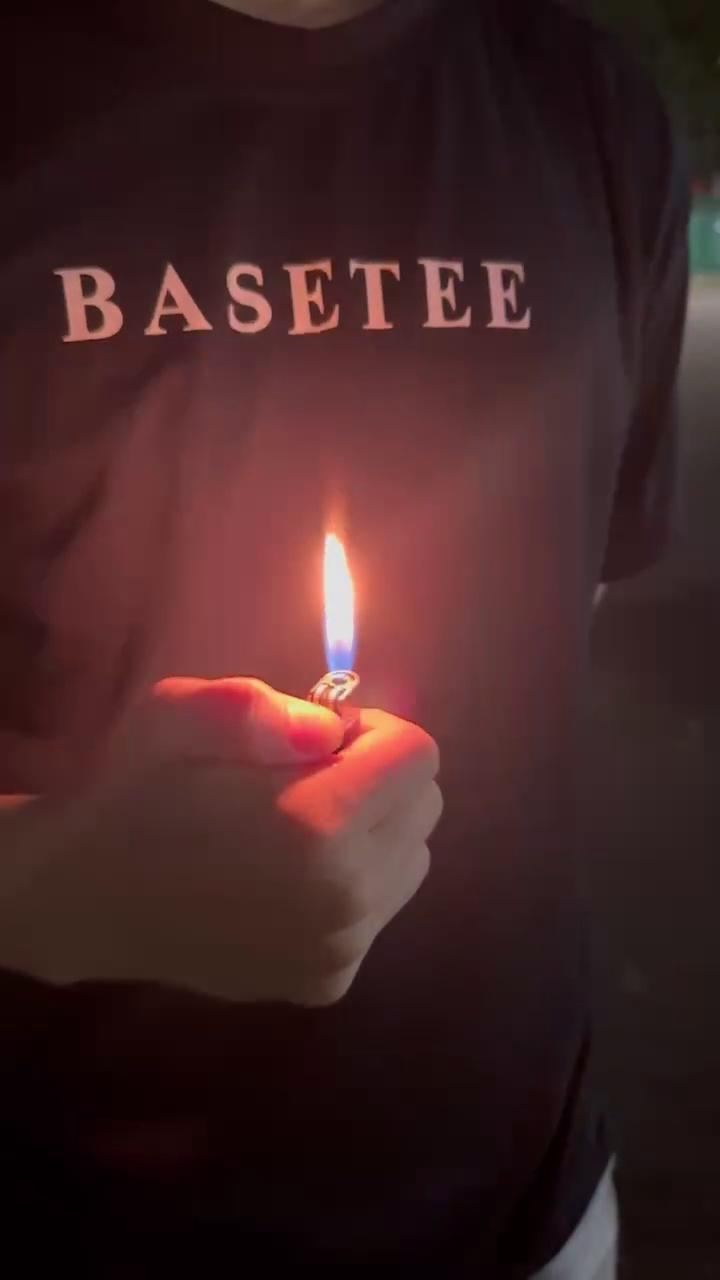Fire: (318, 492, 390, 708)
